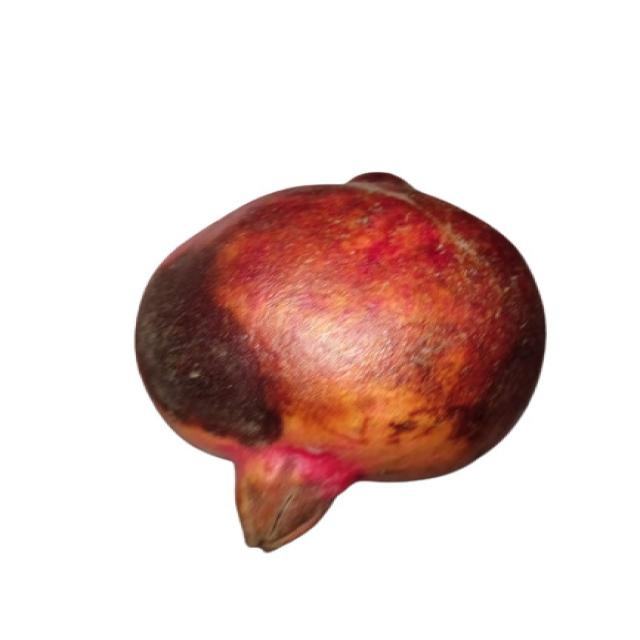Rotten: (126, 164, 554, 551)
